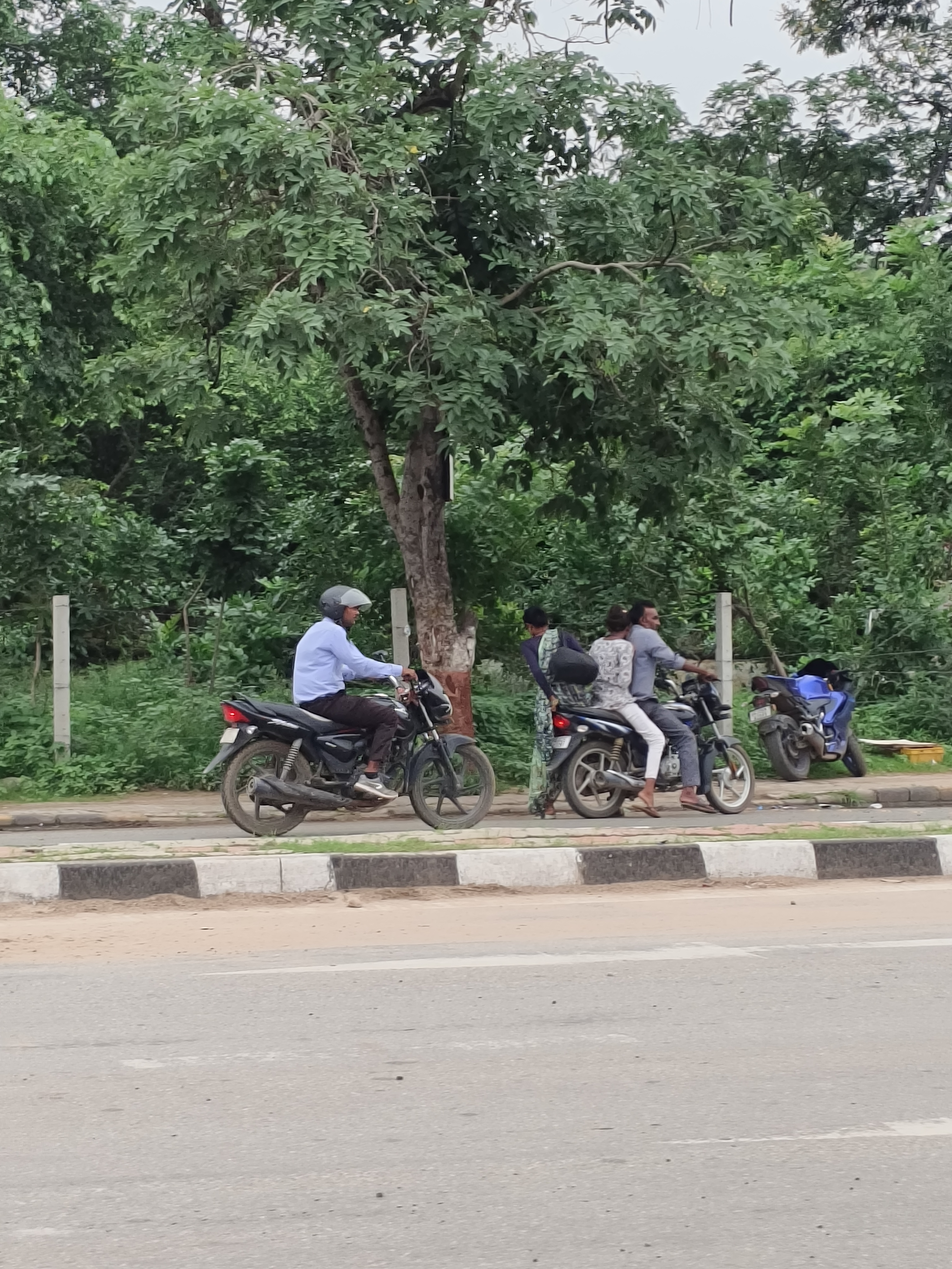BikeWithRider: (191, 570, 513, 853), (518, 567, 772, 837)
Helmet: (313, 575, 378, 636)
NoHelmet: (590, 592, 637, 650), (626, 589, 668, 639), (519, 600, 557, 638)
